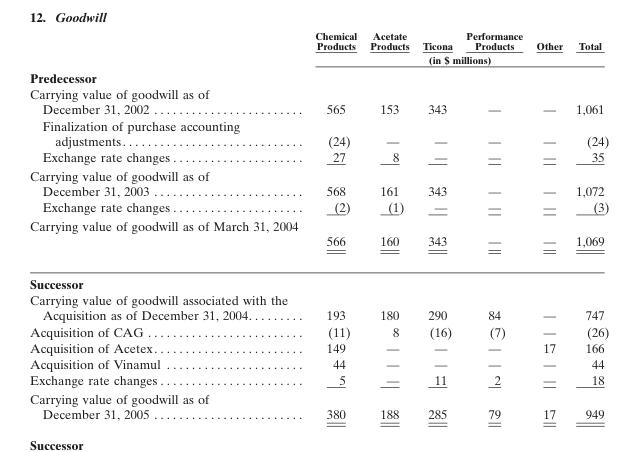table: (29, 28, 608, 421)
table column: (29, 28, 306, 421), (458, 28, 528, 421), (306, 28, 362, 421), (362, 28, 415, 421), (415, 28, 458, 421), (528, 28, 568, 421), (568, 28, 608, 421)
table column header: (29, 28, 608, 67)
table projected row header: (29, 262, 608, 291), (29, 67, 608, 85)
table row: (29, 216, 608, 262), (29, 165, 608, 198), (29, 388, 608, 421), (29, 85, 608, 117), (29, 291, 608, 323), (29, 117, 608, 148), (29, 262, 608, 291), (29, 28, 608, 52), (29, 67, 608, 85), (29, 198, 608, 216), (29, 148, 608, 165), (29, 371, 608, 388), (29, 323, 608, 339), (29, 339, 608, 355), (29, 355, 608, 371), (29, 52, 608, 67)
table spanning cell: (306, 52, 608, 67)
